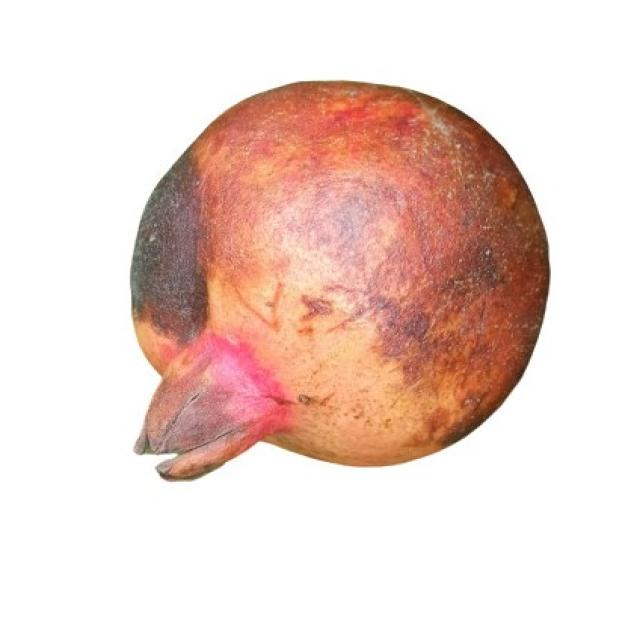overripe: (111, 82, 557, 469)
